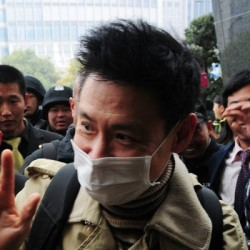mask: (63, 131, 162, 210)
